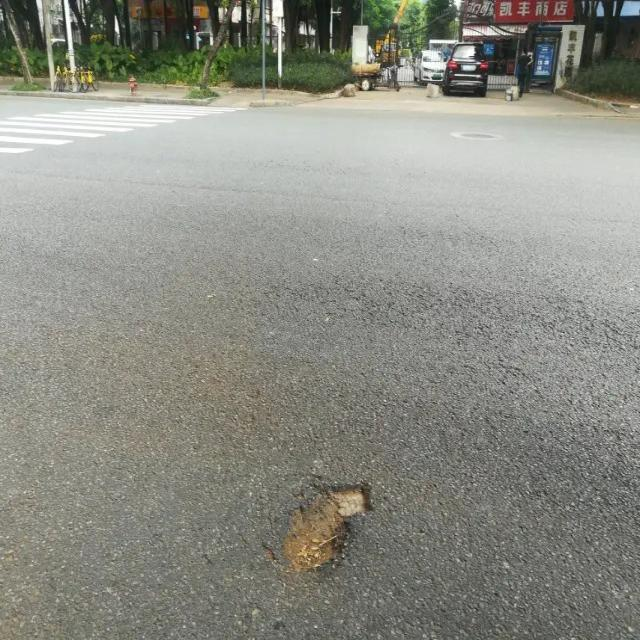Pothole: (278, 481, 374, 584)
